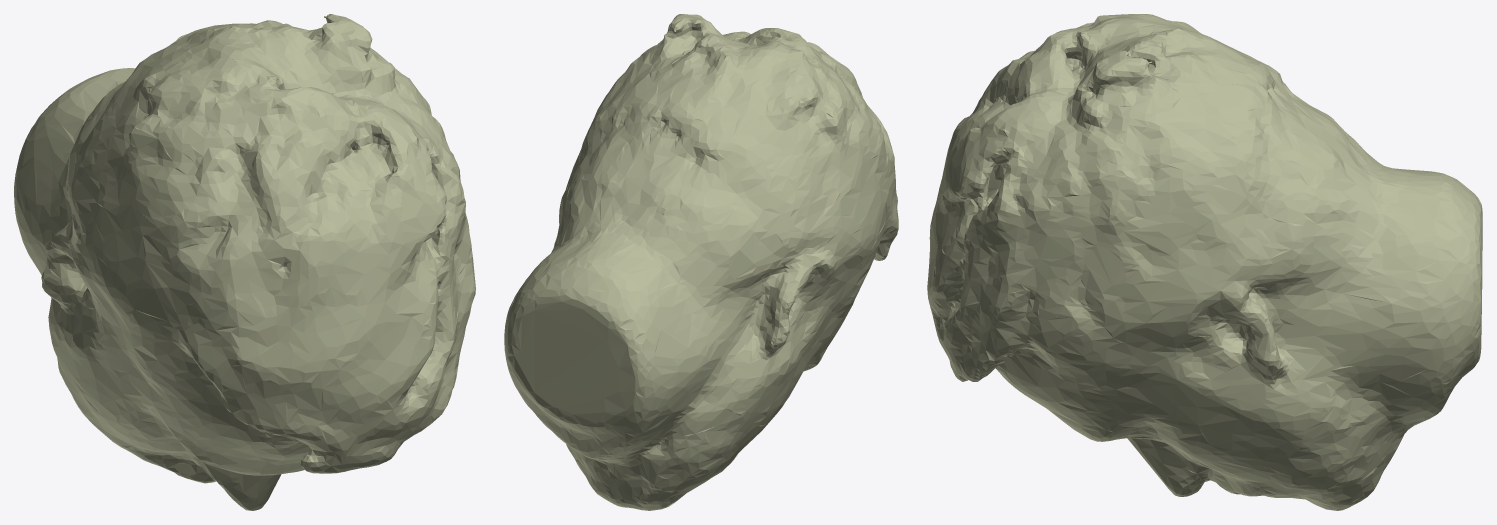
The model's file is tinker.obj.
The picture shows the model from 3 angles, left to right: view 1: azimuth 30°, elevation 25°; view 2: azimuth 150°, elevation 25°; view 3: azimuth 270°, elevation 25°; orthographic projection. The views are drawn at different scales.
Parts seen in each view (by area): view 1: obj_0; view 2: obj_0; view 3: obj_0.
Part boxes in pixels (left/top/right/bottom): obj_0: left=14, top=14, right=475, bottom=510; obj_0: left=504, top=14, right=898, bottom=510; obj_0: left=927, top=14, right=1482, bottom=510.
Size of the model in its own units: 26.02 by 39.22 by 42.
